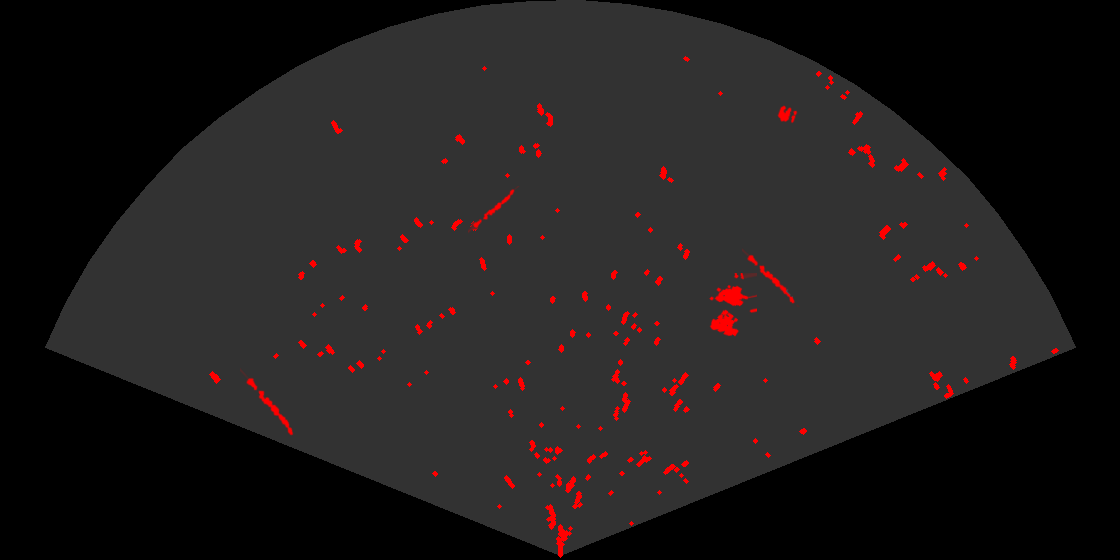ball: (776, 104, 799, 125)
cage: (708, 273, 757, 338)
chain: (240, 368, 295, 437), (742, 247, 801, 307), (468, 186, 521, 235)
